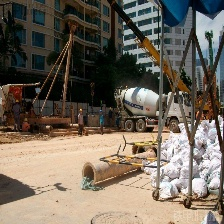no-vest: (78, 114, 84, 127), (100, 115, 104, 127)
person: (77, 107, 86, 138), (97, 108, 106, 137)
